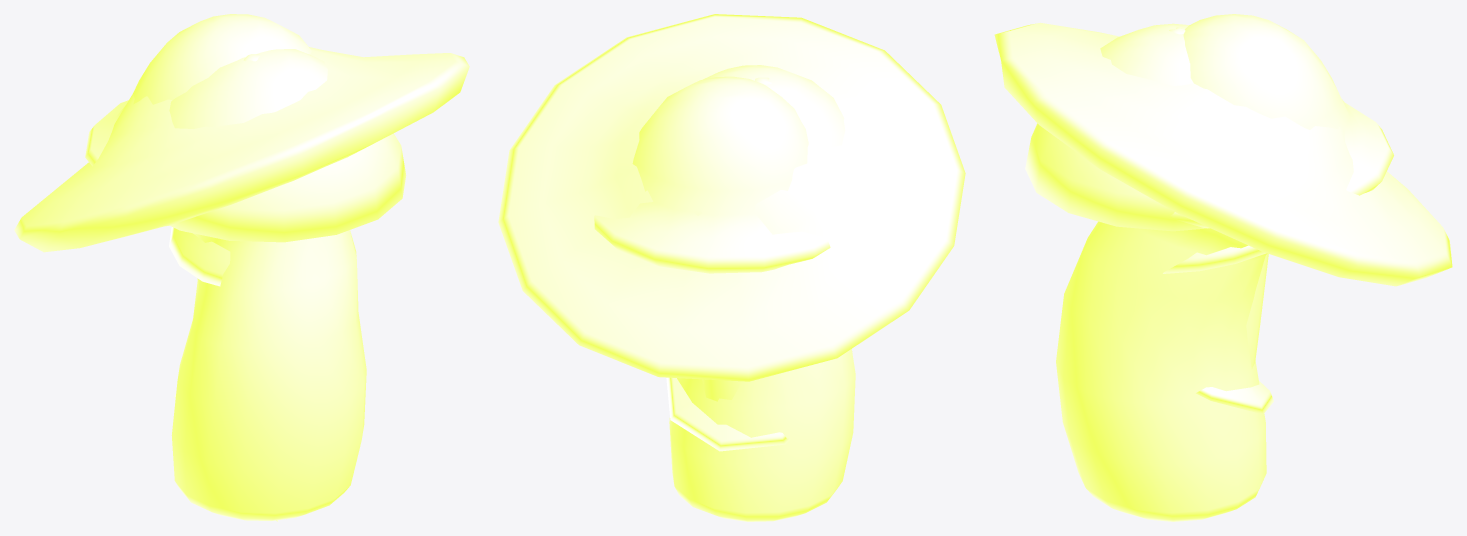
File: cosgurmelocoloridostodoseles2.fbx
3 views of the same model, side by side, from view 1: azimuth 30°, elevation 25°; view 2: azimuth 150°, elevation 25°; view 3: azimuth 270°, elevation 25° (orthographic). The views are drawn at different scales.
Visible parts, largest first — view 1: cogumelo2, cogumelo4, cogumelo, cogumelo3; view 2: cogumelo2, cogumelo, cogumelo4, cogumelopequeno2; view 3: cogumelo2, cogumelo, cogumelo4, cogumelo3, cogumelopequeno2.
Part boxes in pixels (bbox=[...]): cogumelo2: bbox=[14, 47, 469, 520]; cogumelo4: bbox=[169, 49, 406, 242]; cogumelo: bbox=[85, 14, 311, 166]; cogumelo3: bbox=[169, 54, 259, 286]; cogumelo2: bbox=[498, 14, 965, 521]; cogumelo: bbox=[594, 76, 830, 401]; cogumelo4: bbox=[703, 65, 845, 147]; cogumelopequeno2: bbox=[666, 377, 790, 451]; cogumelo2: bbox=[994, 22, 1452, 521]; cogumelo: bbox=[1169, 14, 1393, 368]; cogumelo4: bbox=[1025, 23, 1207, 231]; cogumelo3: bbox=[1163, 27, 1266, 273]; cogumelopequeno2: bbox=[1196, 381, 1273, 414].
Size of the model in its own units: 193 by 206 by 176.
